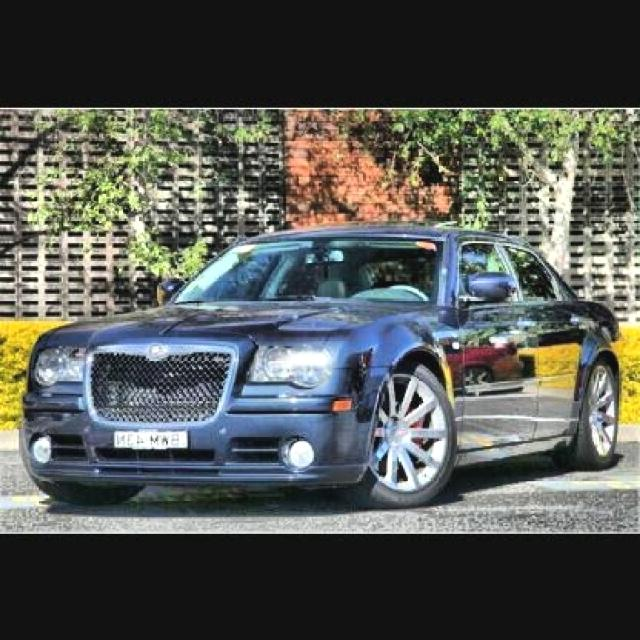black: (0, 213, 589, 492)
